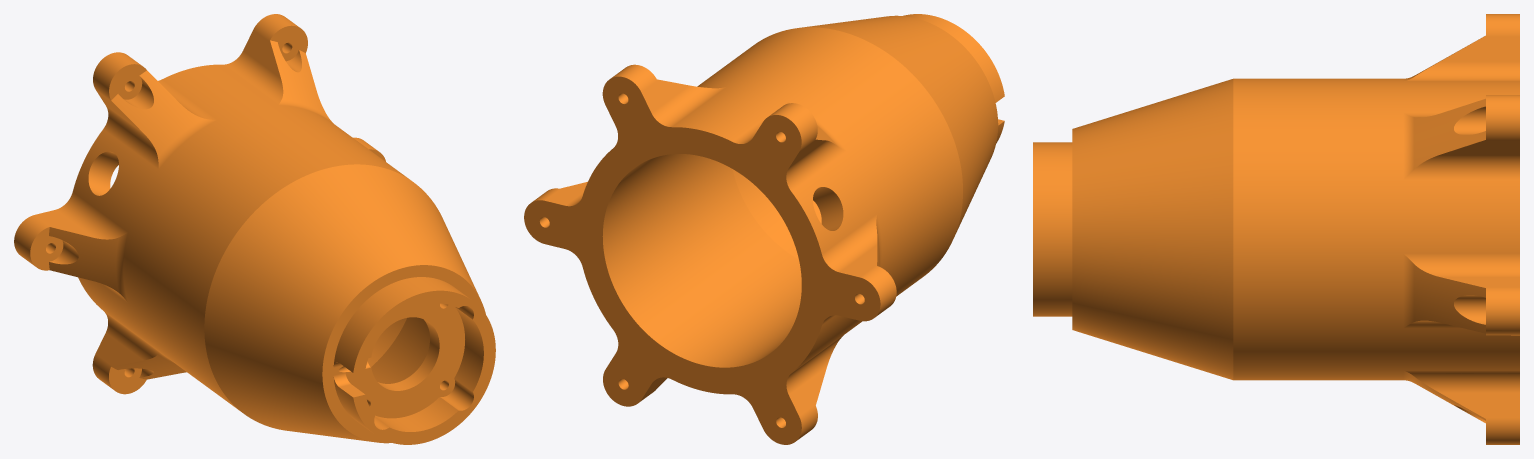
The picture shows the model from 3 angles, left to right: view 1: azimuth 30°, elevation 25°; view 2: azimuth 150°, elevation 25°; view 3: azimuth 270°, elevation 25°; orthographic projection. The views are drawn at different scales.
Parts seen in each view (by area): view 1: base_link; view 2: base_link; view 3: base_link.
Boxes of the visible parts, box(x1,y1,x2,y2) form: base_link: box(14, 14, 495, 444); base_link: box(524, 14, 1004, 444); base_link: box(1033, 14, 1519, 444).
Size of the model in its own units: 215 by 190 by 242.
